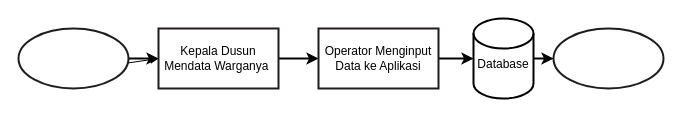
This 681x116 diagram has some shape labels left out. The shapes that lost their labels are listed below. From the top down, each one's centre as x and y in pixels, then its label:
pixel 73 58: Mulai
pixel 608 58: Selesai
